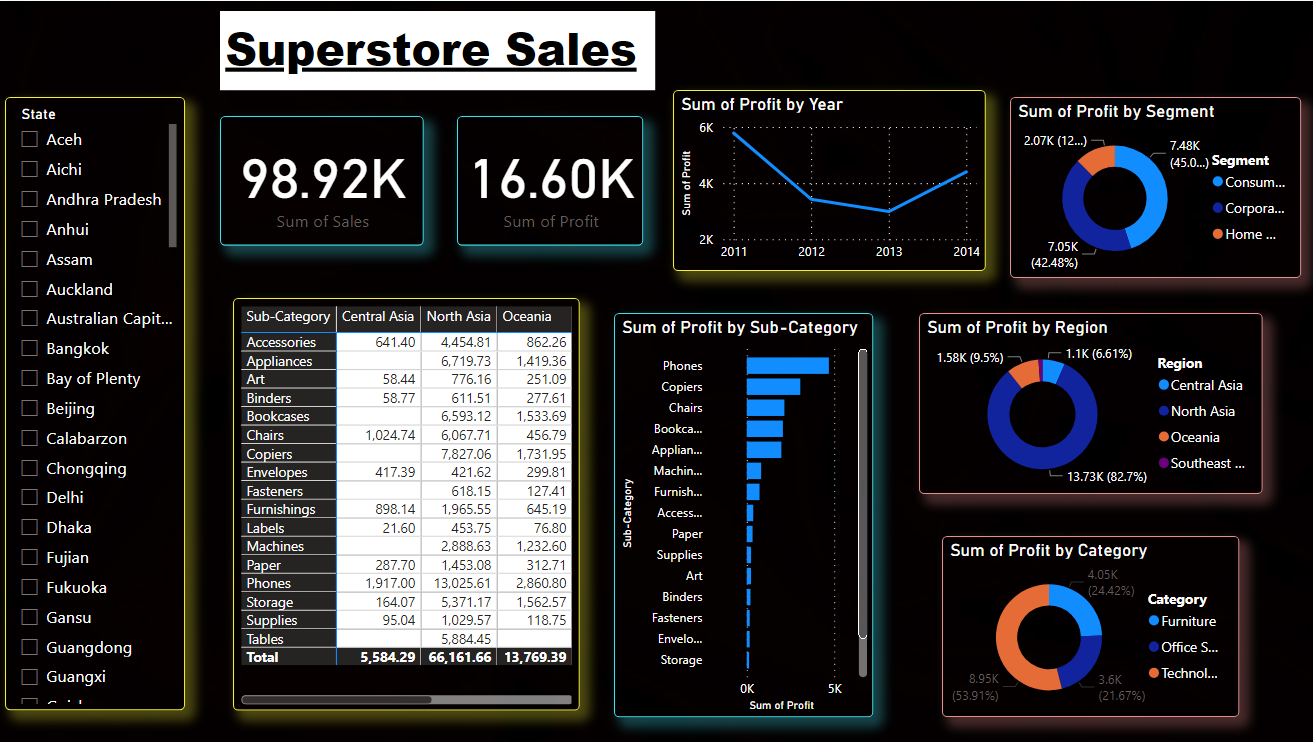

What the dashboard file says about the page in this screenshot:
{"tool":"powerbi","page":{"name":"Page 1","canvas":[1280,720],"ordinal":0},"visuals":[{"type":"slicer","fields":{"Values":["Orders.State"]},"box":[6.8,93.4,175.1,596.2],"z":0},{"type":"card","fields":{"Values":["Sum(Orders.Sales)"]},"box":[215.9,111.9,198.4,126.4],"z":1000},{"type":"card","fields":{"Values":["Sum(Orders.Profit)"]},"box":[446.4,111.9,180.9,126.4],"z":2000},{"type":"pivotTable","fields":{"Rows":["Orders.Sub-Category"],"Columns":["Orders.Region"],"Values":["Sum(Orders.Sales)"]},"box":[228.6,288.9,336.5,400.7],"z":3000},{"type":"lineChart","fields":{"Y":["Sum(Orders.Profit)"],"Category":["Orders.Order Date.Variation.Date Hierarchy.Year"]},"box":[655.6,86.6,304.4,176],"z":4000},{"type":"clusteredBarChart","fields":{"Category":["Orders.Sub-Category"],"Y":["Sum(Orders.Profit)"]},"box":[599.1,303.5,251.9,392.9],"z":5000},{"type":"donutChart","fields":{"Y":["Sum(Orders.Profit)"],"Category":["Orders.Segment"]},"box":[983.3,93.4,283,176],"z":6000},{"type":"donutChart","fields":{"Y":["Sum(Orders.Profit)"],"Series":["Orders.Region"]},"box":[894.8,303.5,333.6,176],"z":7000},{"type":"donutChart","fields":{"Y":["Sum(Orders.Profit)"],"Series":["Orders.Category"]},"box":[917.2,520.4,288.9,176],"z":8000},{"type":"textbox","box":[215.9,9.7,423.1,76.8],"z":8001}]}

Visuals, with their boxes in screenshot pixels (x1, y1, x2, y2), scaled from the page's 1280x720 canvas onto the 1313x742 screenshot:
slicer - Orders.State: Rect(7, 96, 187, 711)
card - Sum(Orders.Sales): Rect(221, 115, 425, 246)
card - Sum(Orders.Profit): Rect(458, 115, 643, 246)
pivotTable - Orders.Sub-Category x Orders.Region: Rect(234, 298, 580, 711)
lineChart - Sum(Orders.Profit) x Orders.Order Date.Variation.Date Hierarchy.Year: Rect(673, 89, 985, 271)
clusteredBarChart - Orders.Sub-Category x Sum(Orders.Profit): Rect(615, 313, 873, 718)
donutChart - Sum(Orders.Profit) x Orders.Segment: Rect(1009, 96, 1299, 278)
donutChart - Sum(Orders.Profit) x Orders.Region: Rect(918, 313, 1260, 494)
donutChart - Sum(Orders.Profit) x Orders.Category: Rect(941, 536, 1237, 718)
textbox: Rect(221, 10, 655, 89)
